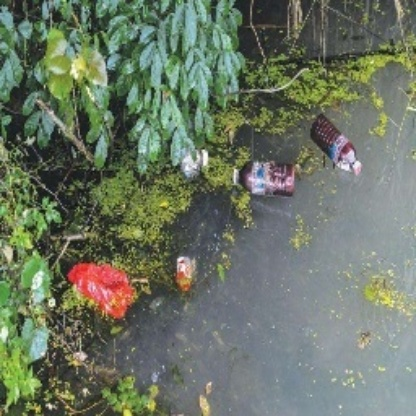bottle: (311, 113, 363, 176), (232, 161, 296, 201)
plastic-bag: (69, 261, 140, 320)
